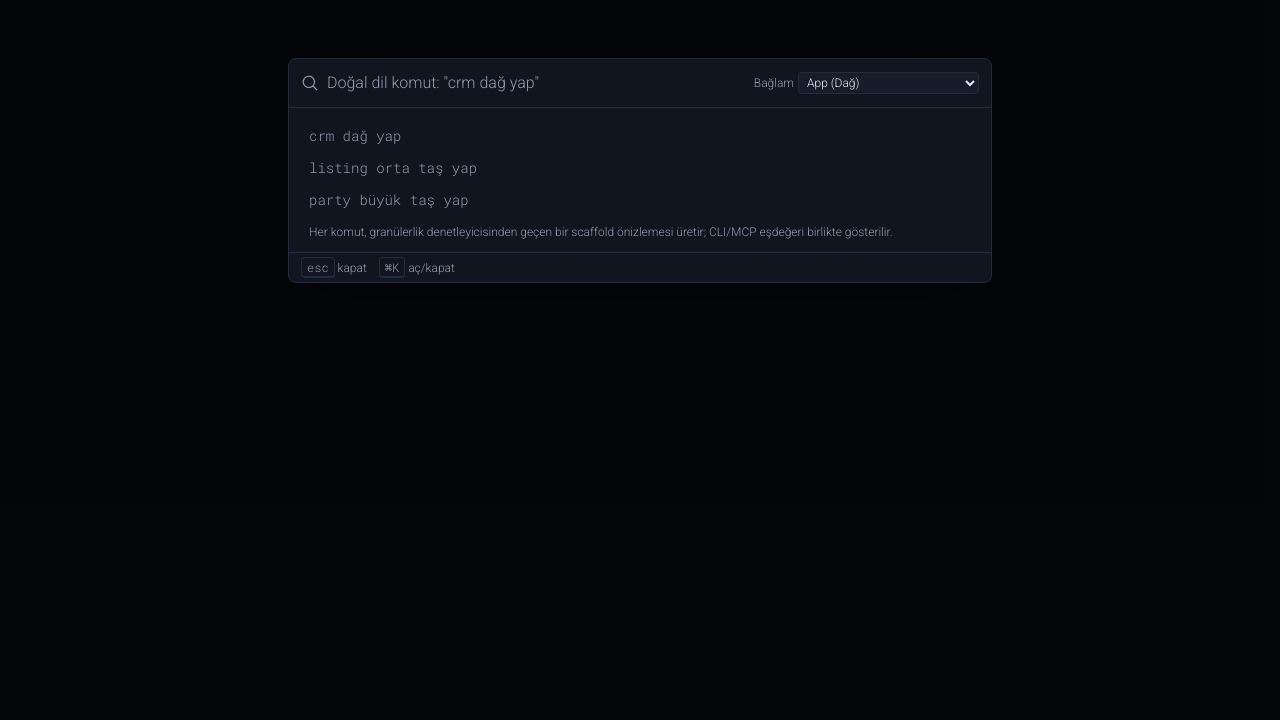
Test case: CommandPalette (⌘K) sözleşmesi › komşuluk ihlali UI'da engellenir
Type "fiyat alan yap" into the dropdown labelled "Doğal dil komut: \"crm dağ yap\"" at (536, 83), box x1=327 y1=67 x2=746 y2=99
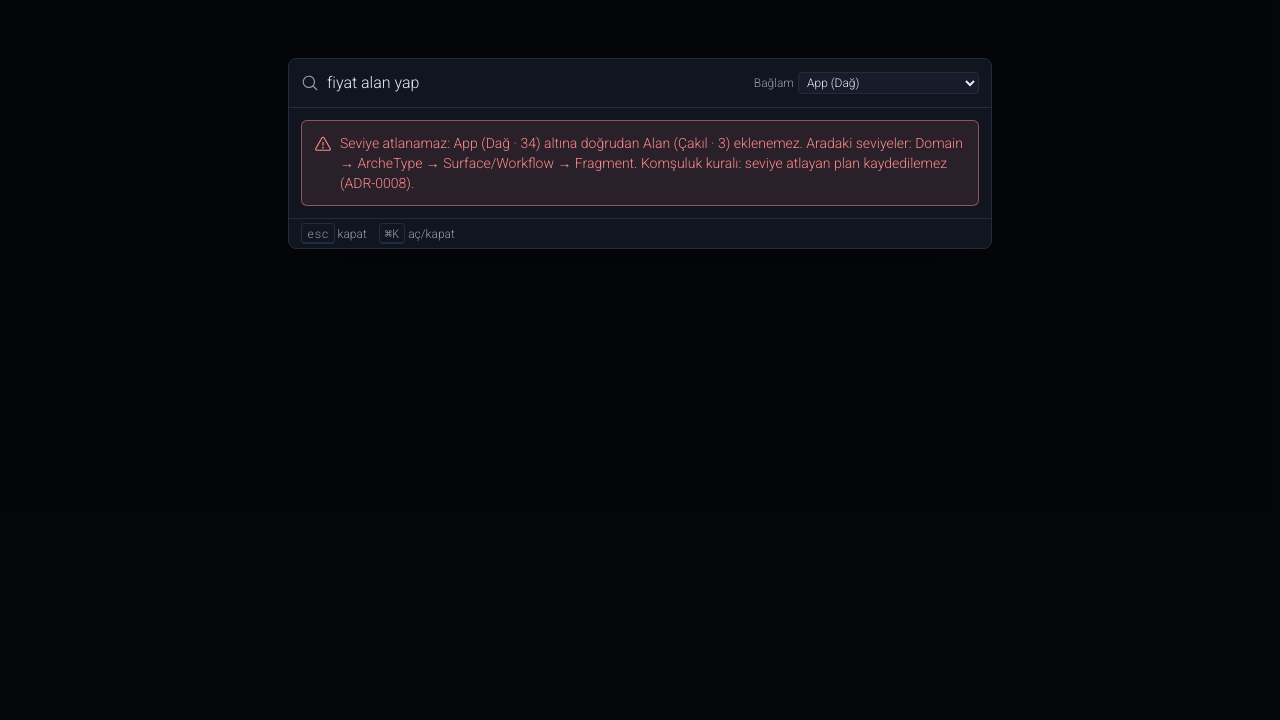
Expected: the text "Seviye atlanamaz" is shown, x1=340 y1=135 x2=963 y2=171
